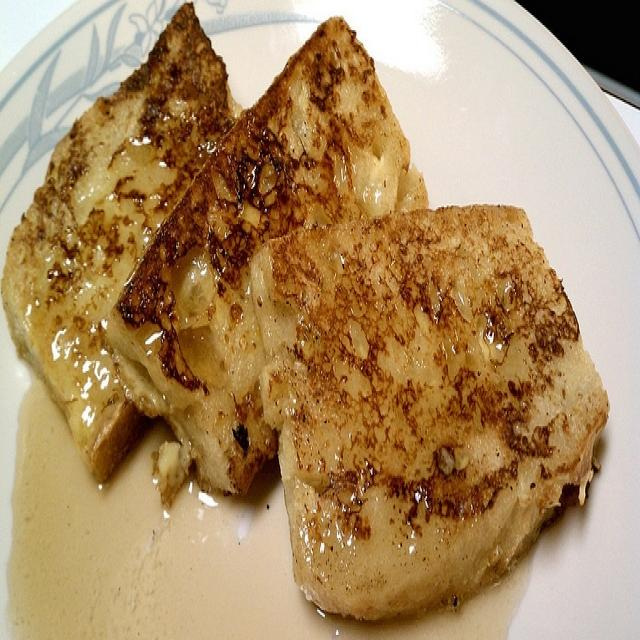面包点心: (2, 1, 624, 626)
